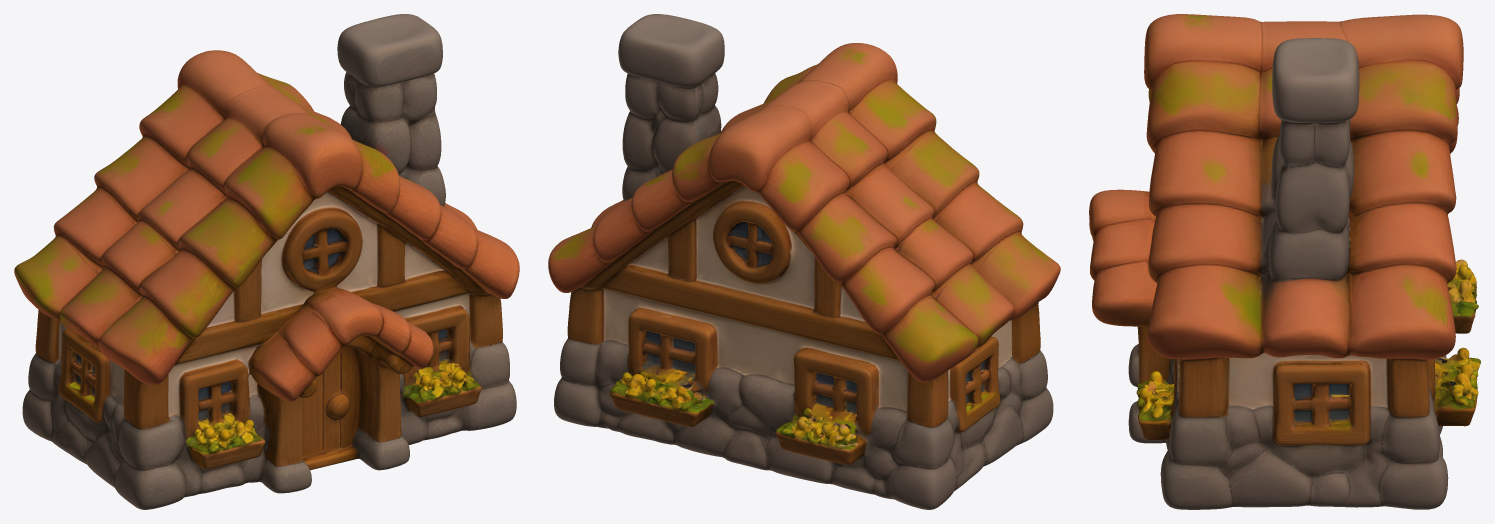
File: ck_house_c.glb
3 renders of one model, left to right at view 1: azimuth 30°, elevation 25°; view 2: azimuth 150°, elevation 25°; view 3: azimuth 270°, elevation 25°, orthographic. The views are drawn at different scales.
Parts seen in each view (by area): view 1: ck_house_c; view 2: ck_house_c; view 3: ck_house_c.
Part boxes in pixels (left/top/right/bottom): ck_house_c: left=14, top=14, right=519, bottom=509; ck_house_c: left=548, top=14, right=1060, bottom=509; ck_house_c: left=1089, top=14, right=1480, bottom=509.
Bounding box in the file's own units: 1.97 × 1.72 × 1.44.
1 material, 1 textured.
